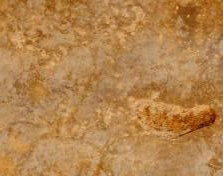Corrosion: (135, 105, 216, 133)
Spalling: (127, 96, 217, 140)
